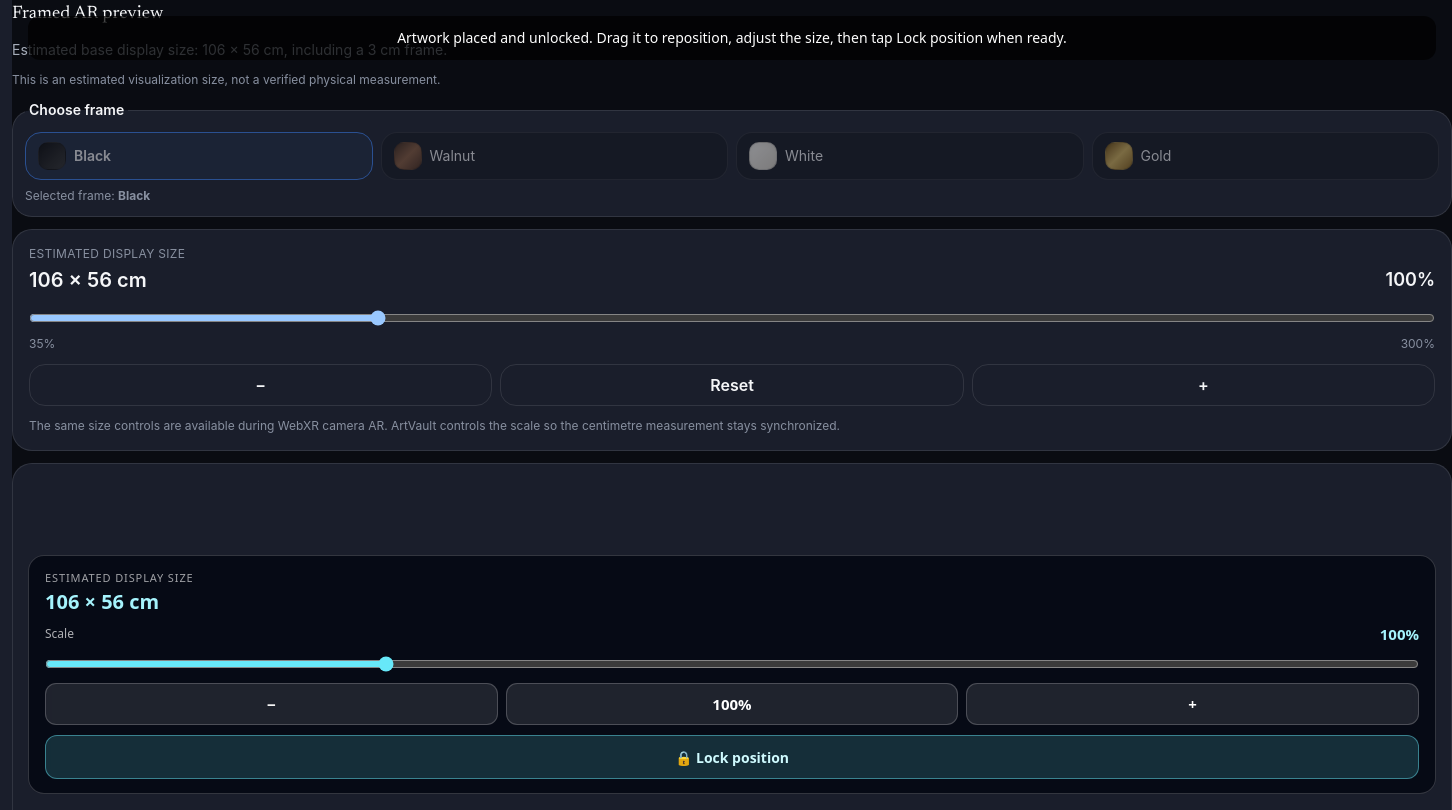
Test: real AR viewer wrapper › updates the WebXR size controls with the selected percentage
Expected: the element named "Framed artwork - black framed artwork AR preview" is shown, x1=28 y1=555 x2=1436 y2=794
Click the button named "Increase artwork size": (1193, 704) x1=966 y1=683 x2=1419 y2=725
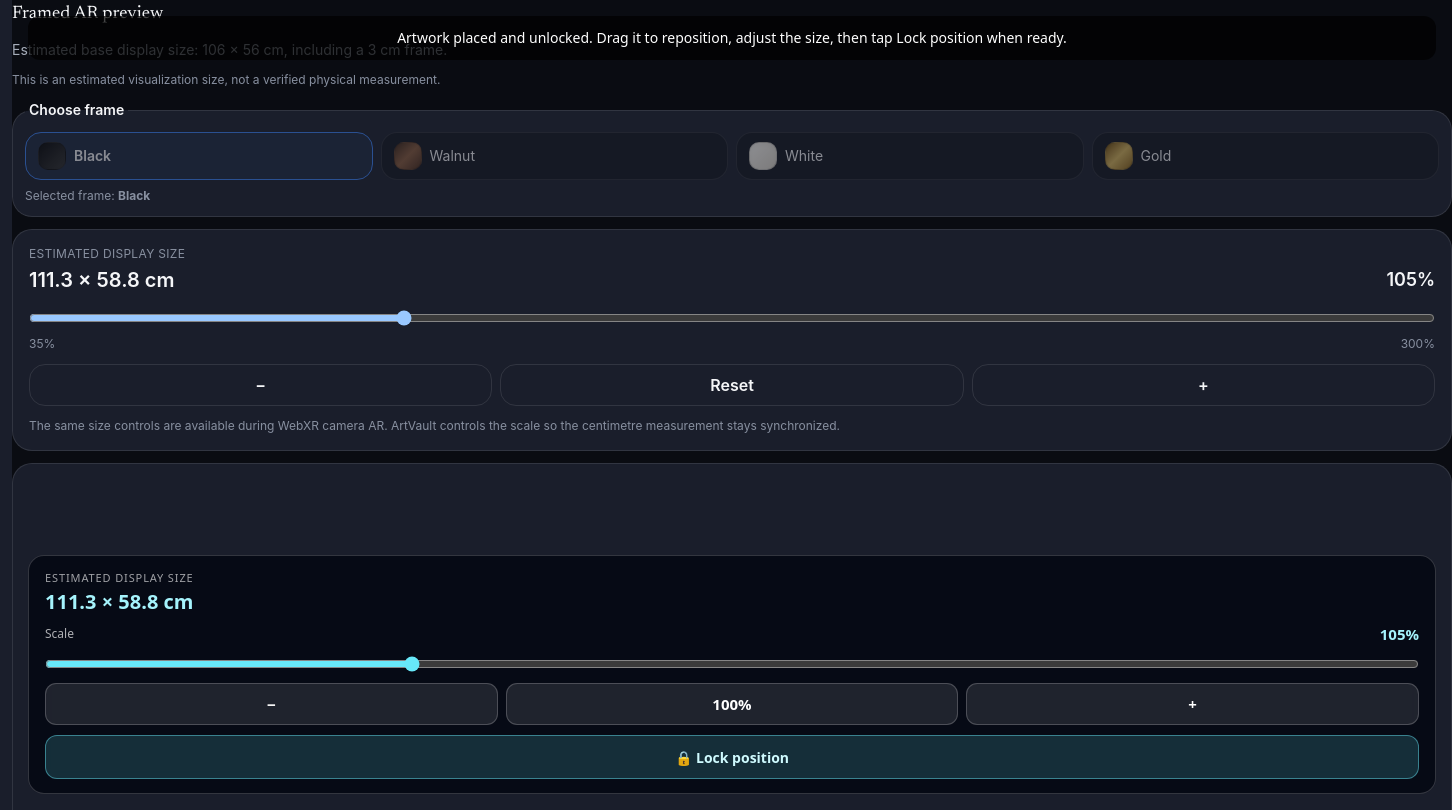
Expected: the text "111.3 × 58.8 cm" is shown, x1=45 y1=588 x2=194 y2=615
Expected: the text "105%" is shown, x1=1380 y1=624 x2=1419 y2=644
